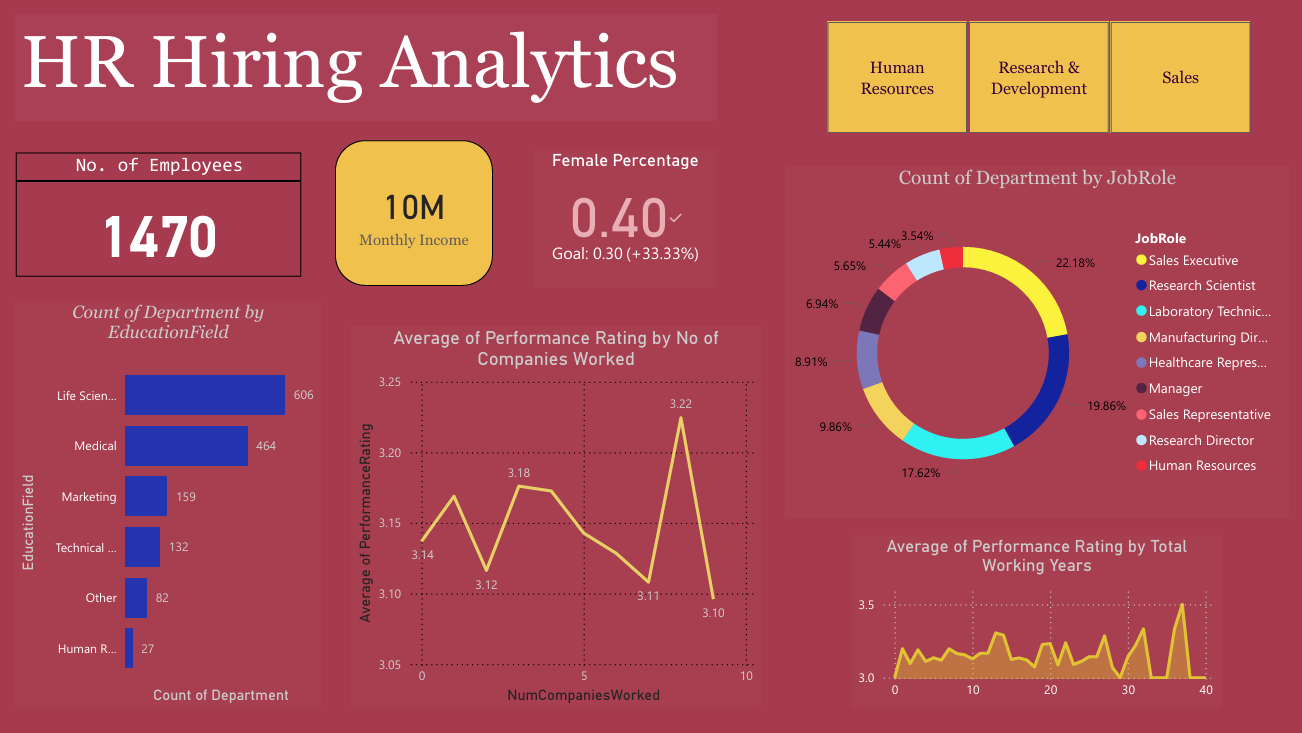

The page's visual inventory and layout, read from the dashboard file:
{"tool":"powerbi","page":{"name":"Page 1","canvas":[1280,720],"ordinal":0},"visuals":[{"type":"slicer","fields":{"Values":["HR-Employee-Attrition.Department"]},"box":[786.3,13.7,464.7,123.5],"z":0},{"type":"barChart","fields":{"Category":["HR-Employee-Attrition.EducationField"],"Y":["CountNonNull(HR-Employee-Attrition.Department)"]},"box":[15.1,294.8,300.5,398.7],"z":1000},{"type":"card","title":"No. of Employees","fields":{"Values":["Sum(HR-Employee-Attrition.EmployeeCount)"]},"box":[15.7,149,280.4,121.6],"z":2000},{"type":"donutChart","fields":{"Category":["HR-Employee-Attrition.JobRole"],"Y":["CountNonNull(HR-Employee-Attrition.Department)"]},"box":[770.6,162.7,494.1,345.1],"z":3000},{"type":"lineChart","title":"Average of Performance Rating by No of Companies Worked","fields":{"Category":["HR-Employee-Attrition.NumCompaniesWorked"],"Y":["Avg(HR-Employee-Attrition.PerformanceRating)"]},"box":[345.1,319.6,402,374.5],"z":4000},{"type":"stackedAreaChart","title":"Average of Performance Rating by Total Working Years","fields":{"Y":["Avg(HR-Employee-Attrition.PerformanceRating)"],"Category":["HR-Employee-Attrition.TotalWorkingYears"]},"box":[837.3,525.5,360.8,168.6],"z":5000},{"type":"kpi","title":"Female Percentage ","fields":{"Indicator":["HR-Employee-Attrition.Female Percentage"],"TrendLine":["HR-Employee-Attrition.EmployeeCount"],"Goal":["HR-Employee-Attrition.target"]},"box":[525.4,145.5,177.6,136.1],"z":6000},{"type":"card","fields":{"Values":["Sum(HR-Employee-Attrition.MonthlyIncome)"]},"box":[329.4,137.3,154.9,143.1],"z":7000},{"type":"textbox","box":[15.7,13.7,688.2,103.9],"z":8000}]}

Visuals, with their boxes in screenshot pixels (x1, y1, x2, y2), scaled from the page's 1280x720 canvas onto the 1302x733 screenshot:
slicer - HR-Employee-Attrition.Department: l=800, t=14, r=1273, b=140
barChart - HR-Employee-Attrition.EducationField x CountNonNull(HR-Employee-Attrition.Department): l=15, t=300, r=321, b=706
"No. of Employees" card: l=16, t=152, r=301, b=275
donutChart - HR-Employee-Attrition.JobRole x CountNonNull(HR-Employee-Attrition.Department): l=784, t=166, r=1286, b=517
"Average of Performance Rating by No of Companies Worked" lineChart: l=351, t=325, r=760, b=707
"Average of Performance Rating by Total Working Years" stackedAreaChart: l=852, t=535, r=1219, b=707
"Female Percentage " kpi: l=534, t=148, r=715, b=287
card - Sum(HR-Employee-Attrition.MonthlyIncome): l=335, t=140, r=493, b=285
textbox: l=16, t=14, r=716, b=120
